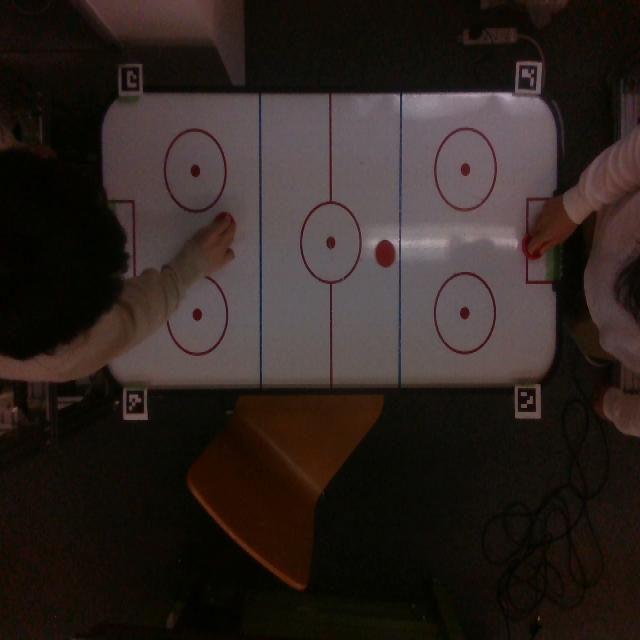puck: (375, 240, 396, 268)
